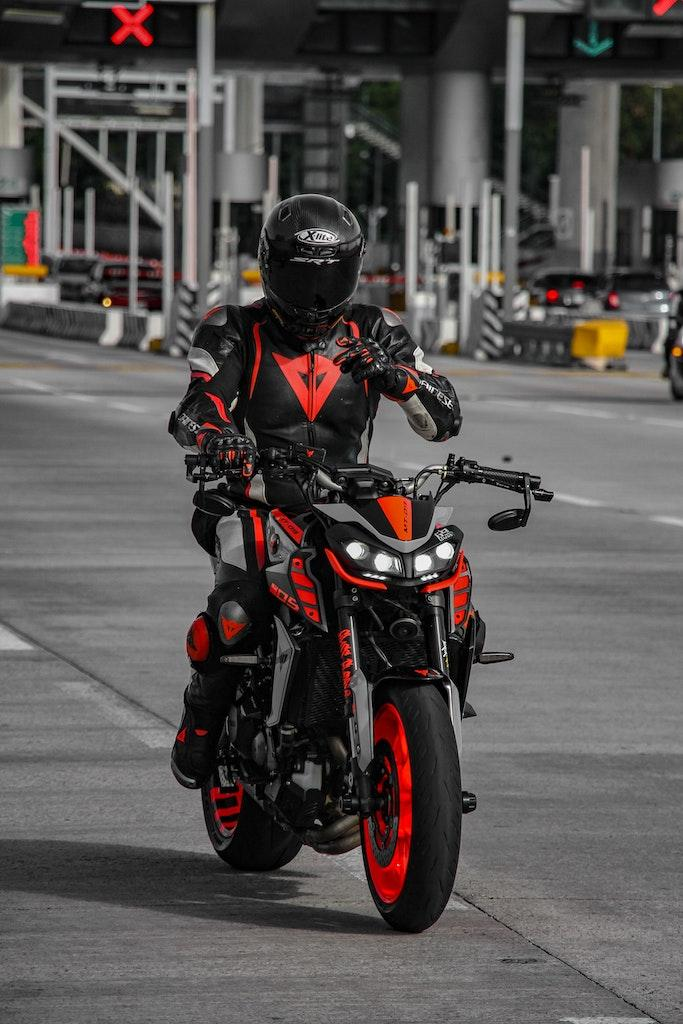helmet: (257, 192, 367, 342)
